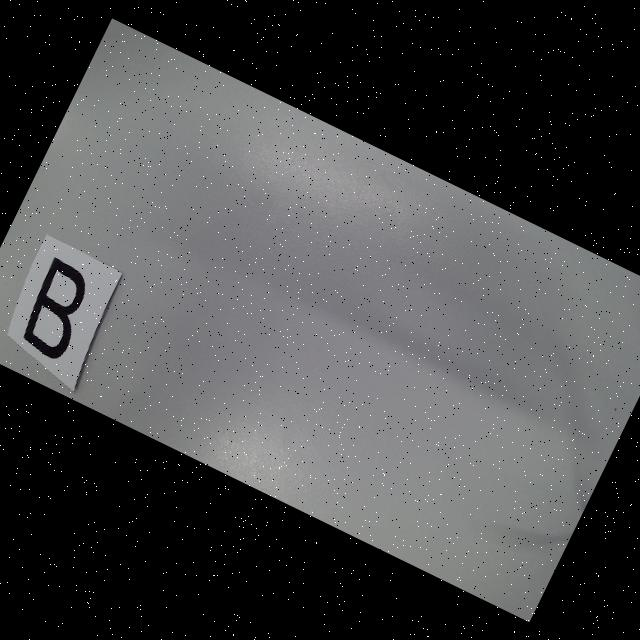FAKE: (14, 256, 100, 362)
